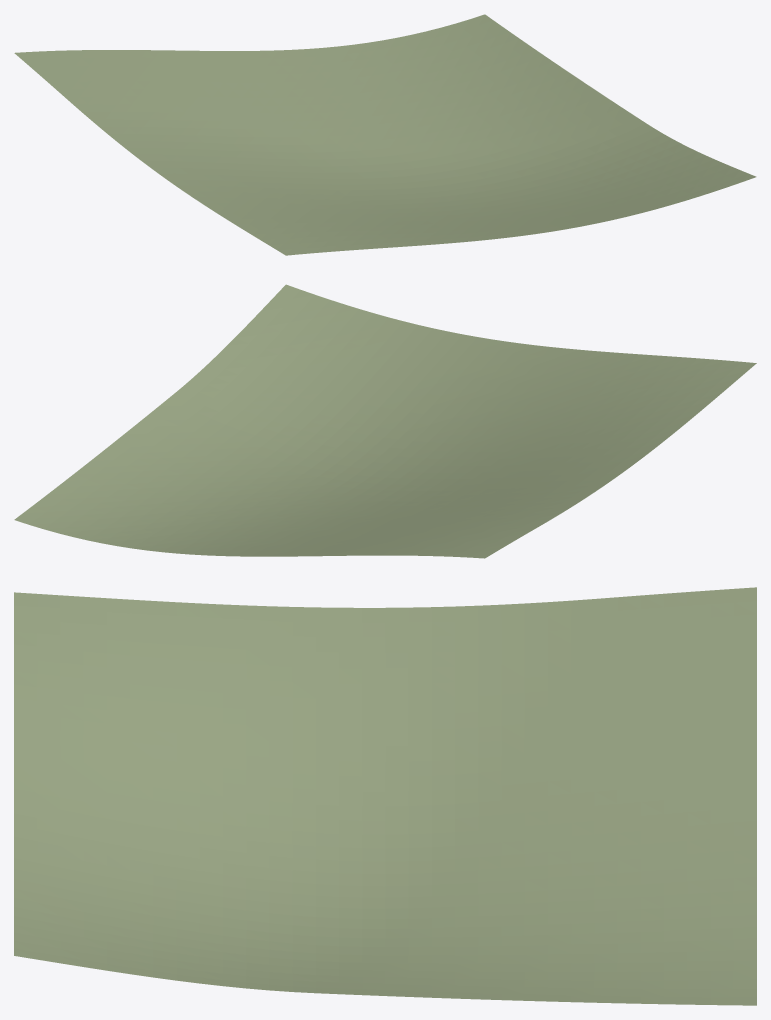
File: expanse-4-30.glb
3 views of the same model, one above another, from view 1: azimuth 30°, elevation 25°; view 2: azimuth 150°, elevation 25°; view 3: azimuth 270°, elevation 25° (orthographic). The views are drawn at different scales.
Parts seen in each view (by area): view 1: expanse-4-30; view 2: expanse-4-30; view 3: expanse-4-30.
Boxes of the visible parts, bbox=[...] form: expanse-4-30: bbox=[14, 14, 756, 255]; expanse-4-30: bbox=[14, 284, 756, 558]; expanse-4-30: bbox=[14, 587, 756, 1005].
Size of the model in its own units: 256 by 44.1 by 256.
